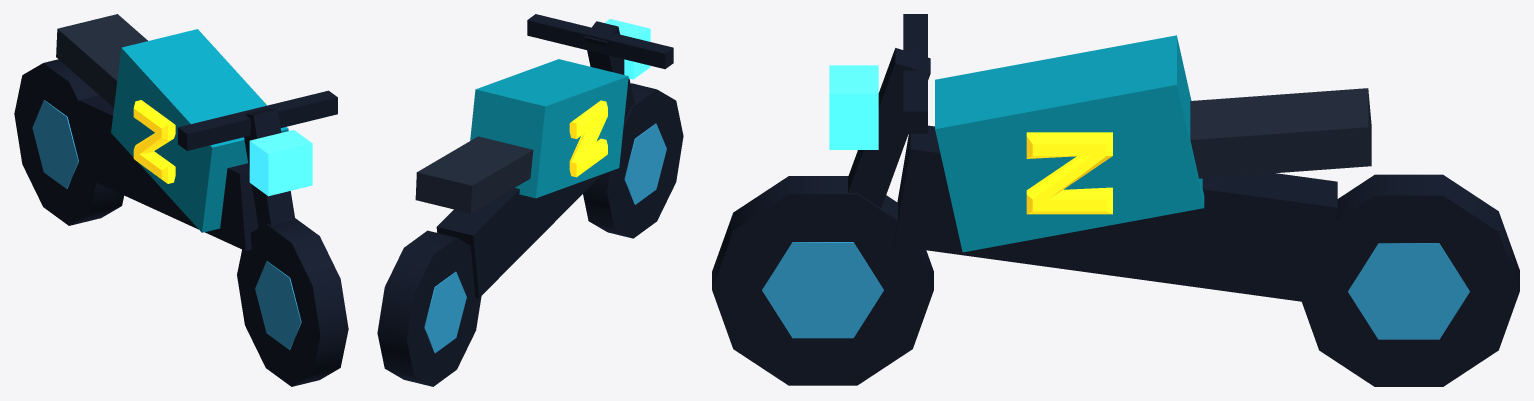
File: zaldi-bike-lowpoly.glb
3 renders of one model, left to right at view 1: azimuth 30°, elevation 25°; view 2: azimuth 150°, elevation 25°; view 3: azimuth 270°, elevation 25°, orthographic. The views are drawn at different scales.
Parts seen in each view (by area): view 1: Zaldi_LowPoly_Bike; view 2: Zaldi_LowPoly_Bike; view 3: Zaldi_LowPoly_Bike.
Part boxes in pixels (x1,y1,x2,y2): Zaldi_LowPoly_Bike: [14, 14, 348, 386]; Zaldi_LowPoly_Bike: [377, 14, 683, 386]; Zaldi_LowPoly_Bike: [712, 14, 1519, 386].
Bounding box in the file's own units: 0.7156 × 1.1 × 2.5.
